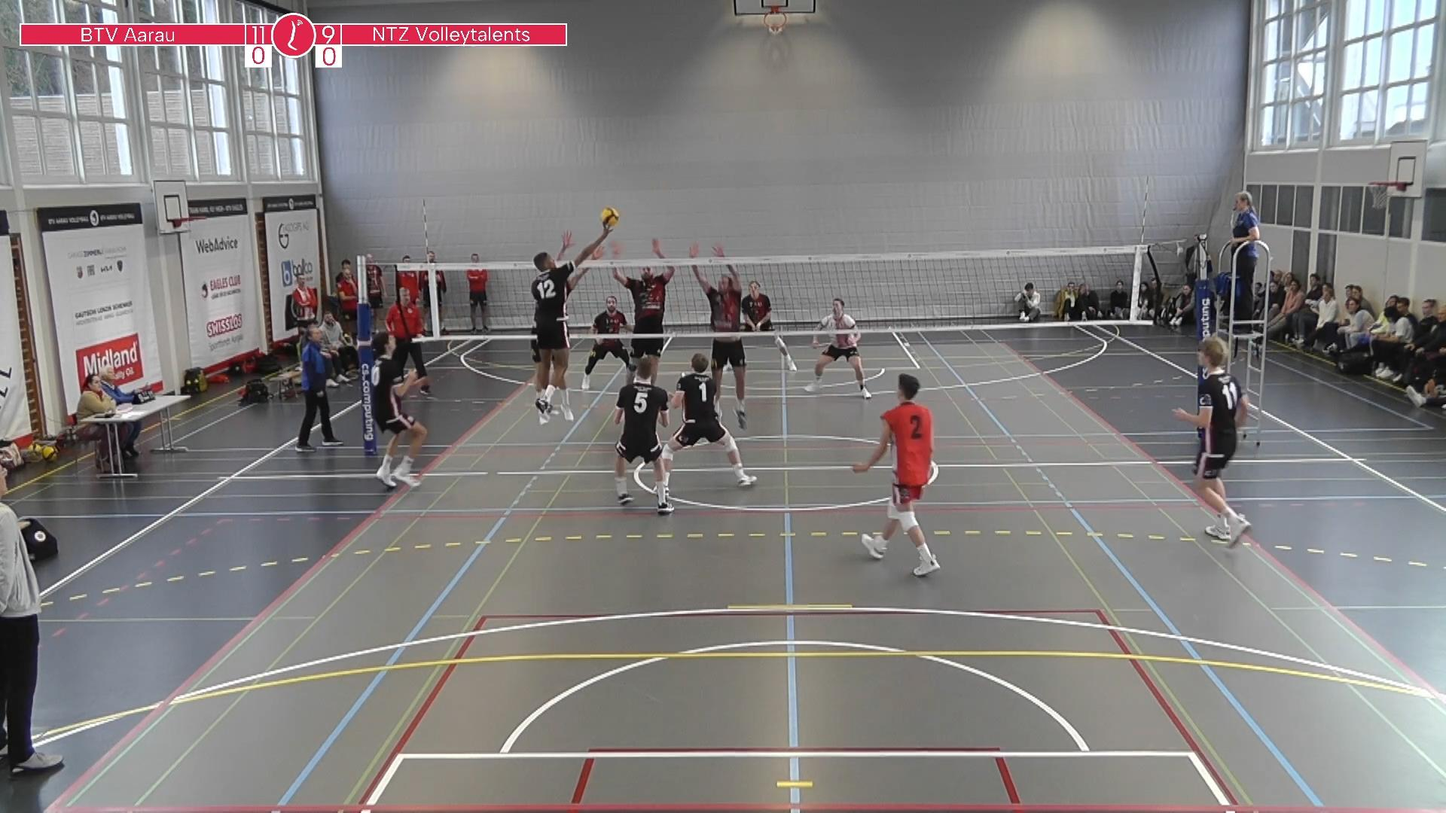attacco: (511, 220, 608, 426)
muro: (688, 237, 753, 433), (606, 237, 674, 398), (538, 228, 602, 297)
